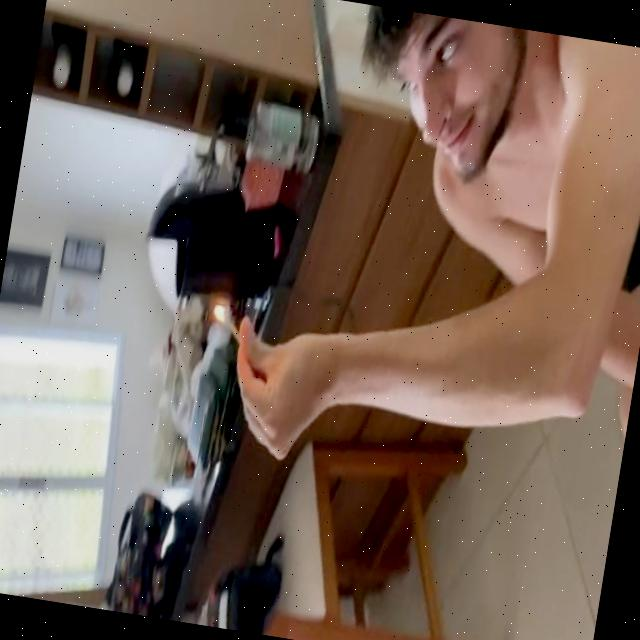fire: (208, 295, 232, 328)
